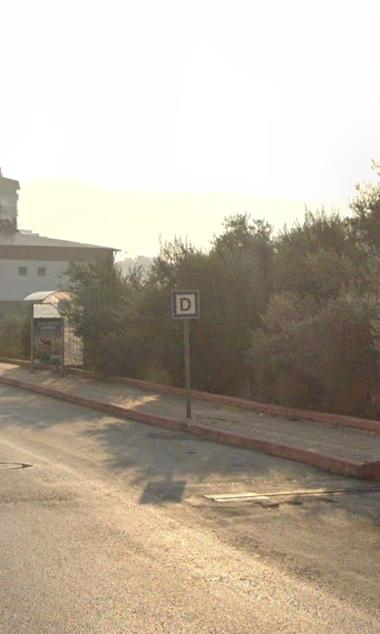station: (175, 291, 198, 316)
